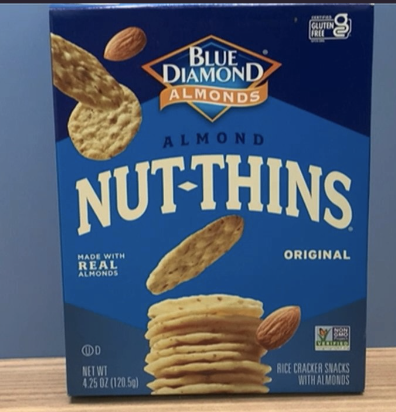crackers_150g: (70, 19, 363, 386)
